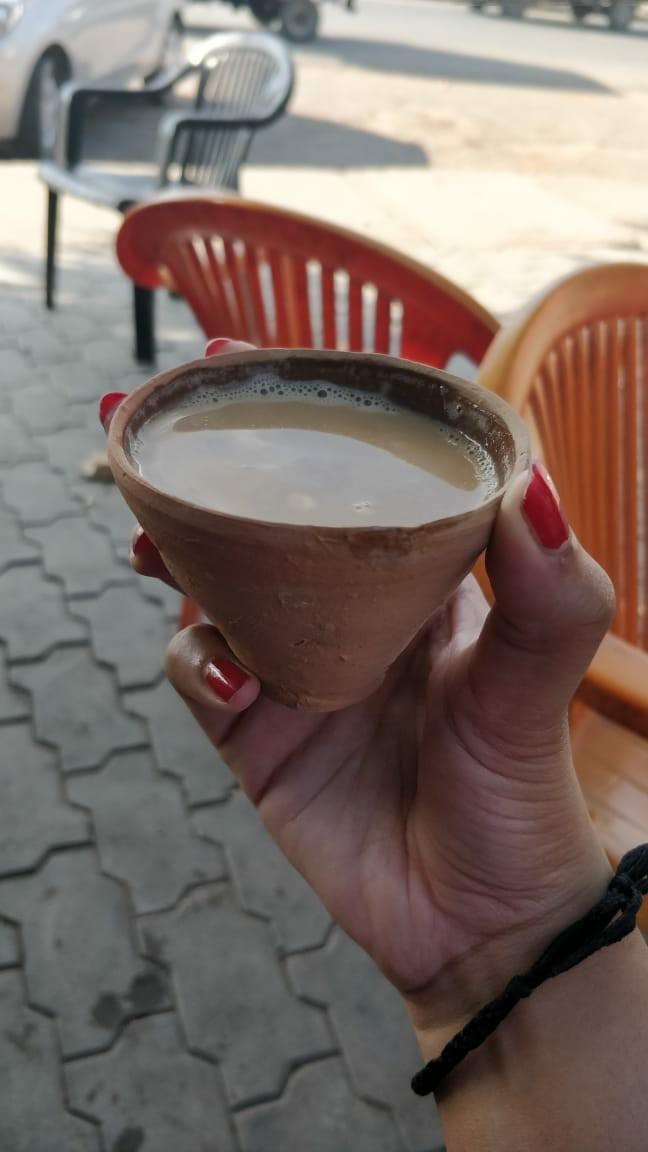Chai: (131, 365, 498, 537)
